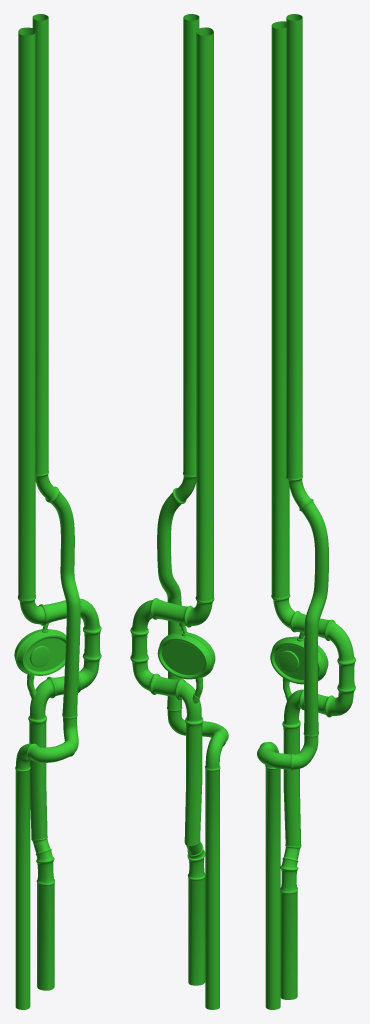
The model's file is gas.fbx.
The picture shows the model from 3 angles, left to right: view 1: azimuth 30°, elevation 25°; view 2: azimuth 150°, elevation 25°; view 3: azimuth 330°, elevation 25°; orthographic projection.
Parts seen in each view (by area): view 1: Big_1, Cylinder_2_2, Cylinder_2; view 2: Big_1, Cylinder_2_2; view 3: Big_1, Cylinder_2_2, Cylinder_2.
Part boxes in pixels (x1,y1,x2,y2): Big_1: (15, 14, 101, 1009); Cylinder_2_2: (14, 629, 66, 675); Cylinder_2: (30, 645, 50, 667); Big_1: (130, 14, 228, 1009); Cylinder_2_2: (157, 632, 215, 679); Big_1: (257, 14, 355, 1009); Cylinder_2_2: (270, 636, 328, 684); Cylinder_2: (278, 650, 299, 672).
Size of the model in its own units: 61.99 by 677 by 33.27.
